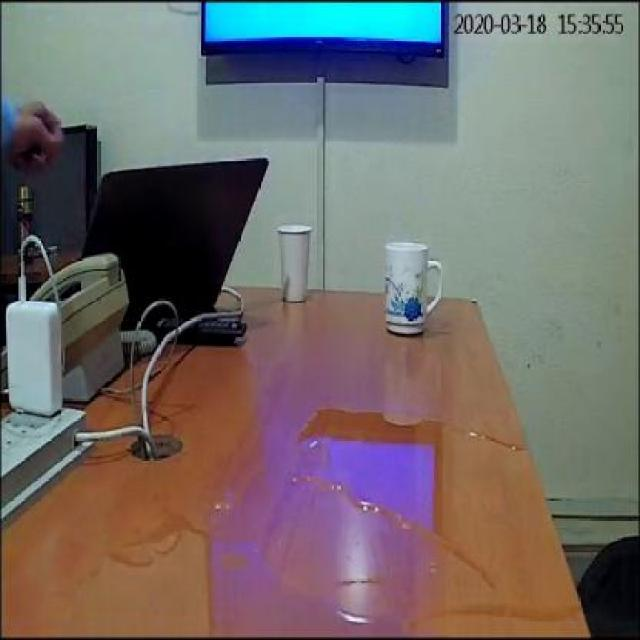spill: (298, 402, 582, 616), (84, 506, 403, 636)
